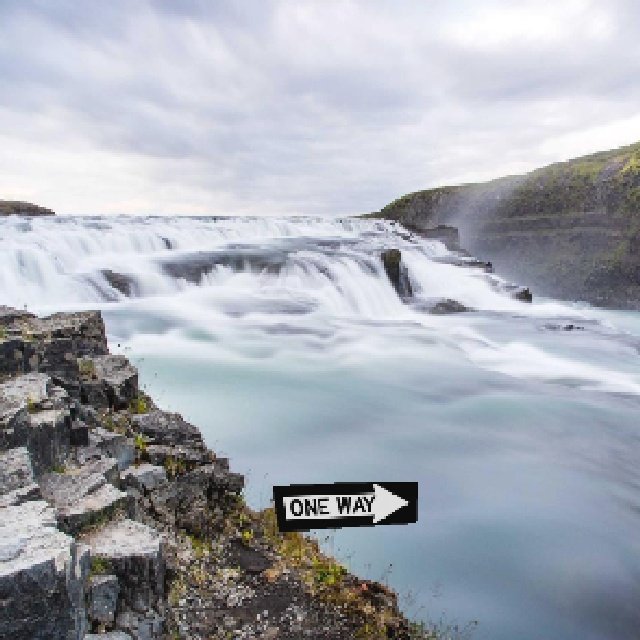ONE_WAY_ right: (270, 478, 417, 530)
